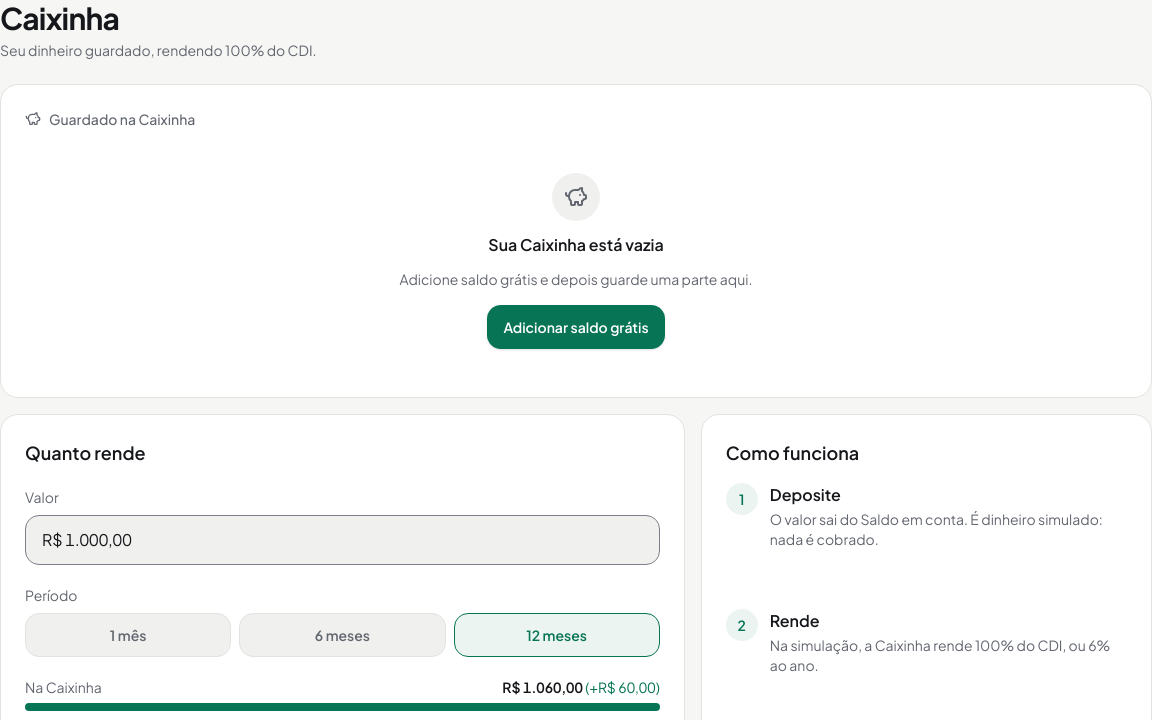
it: Página Caixinha › vazia › depois do saldo grátis, o foco fica no botão que passa a ser o primeiro depósito
Step 1. Click the button "Adicionar saldo grátis" → click(576, 327), box 487,305 -> 665,349
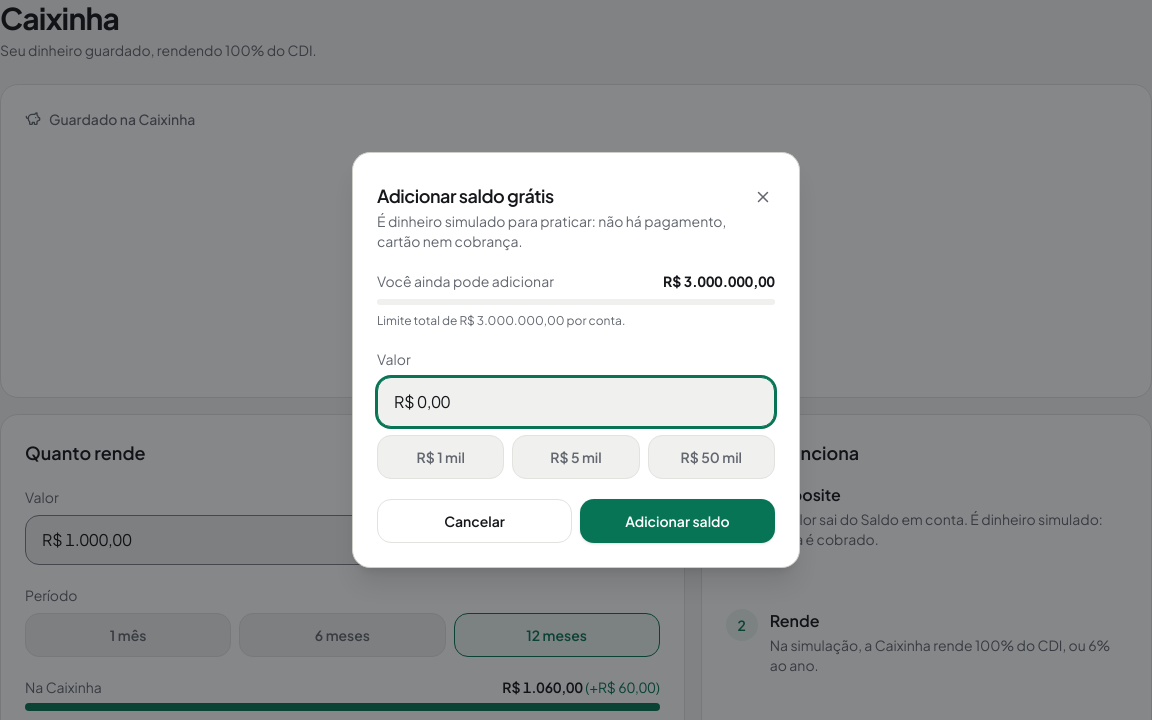
Step 2. Replace the text in the field named "Valor a adicionar" with "10000" → (576, 402), box 377,377 -> 775,427
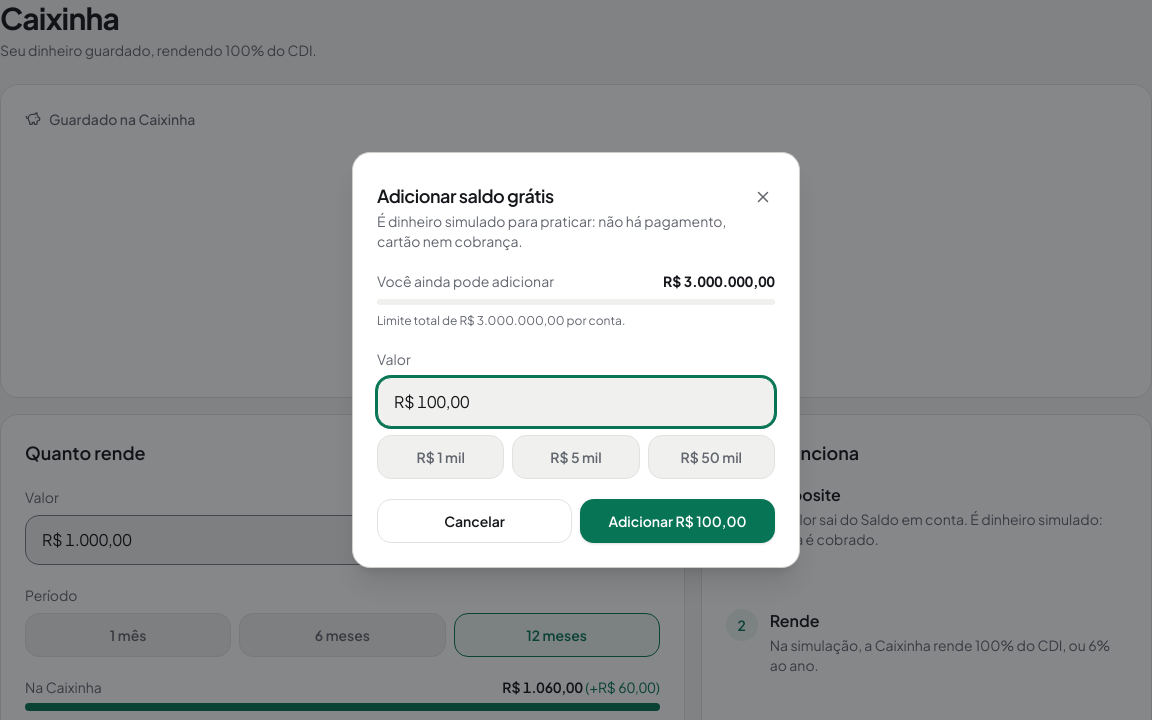
Step 3. Click the button "Adicionar R$ 100,00" → click(678, 521), box 580,499 -> 775,543
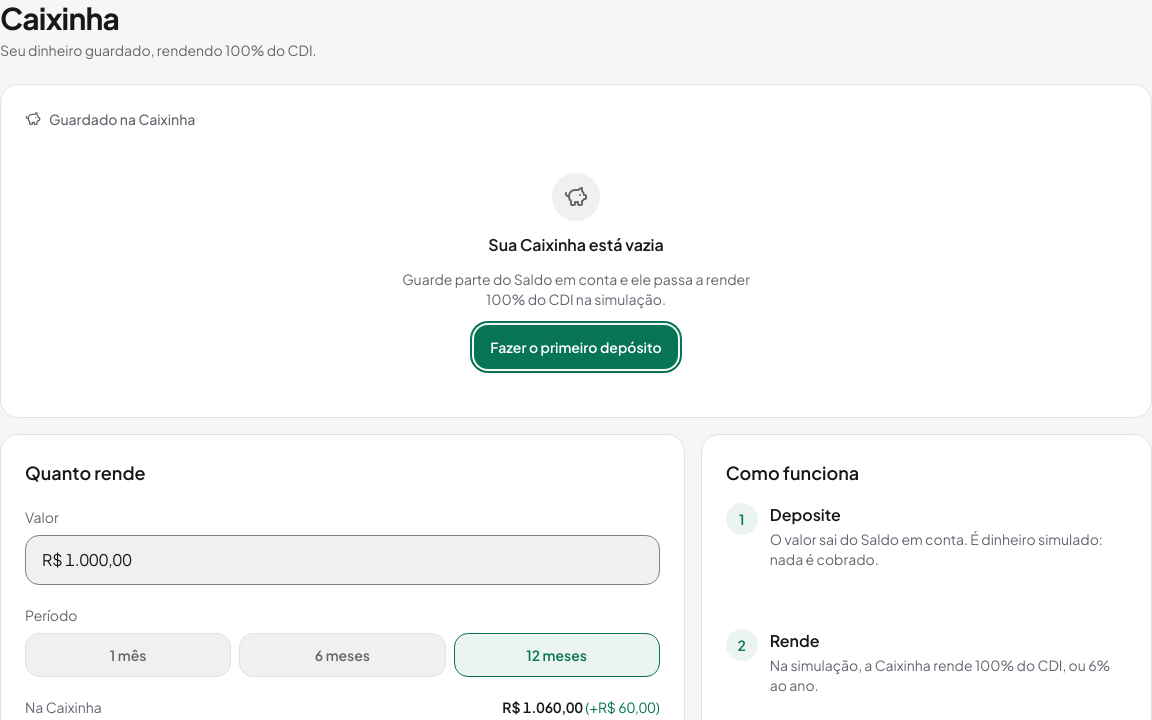
Expected: the dialog is gone
